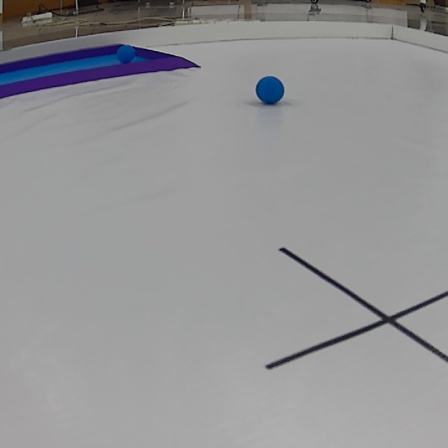blue: (257, 71, 287, 101), (115, 45, 142, 63)
blue_aim: (0, 42, 202, 97)
